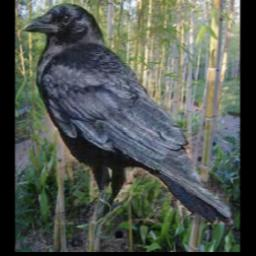Crow: (23, 0, 233, 224)
